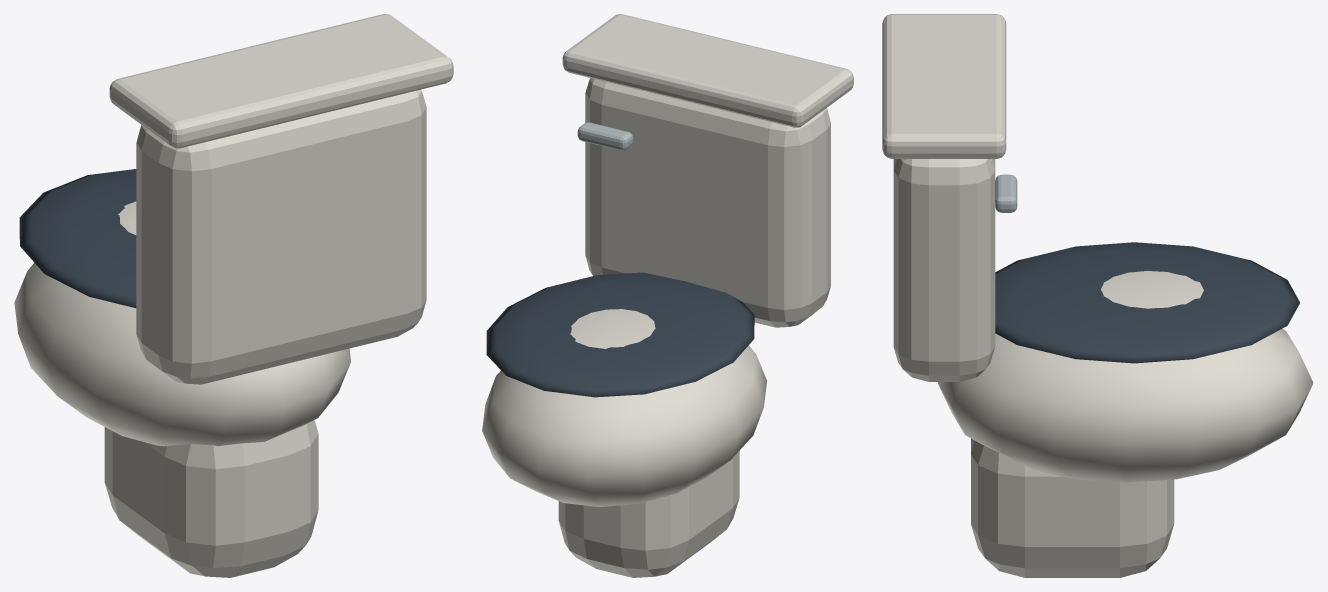
Rendered from chair_toilet.glb.
3 views of the same model, side by side, from view 1: azimuth 30°, elevation 25°; view 2: azimuth 150°, elevation 25°; view 3: azimuth 270°, elevation 25° (orthographic). The views are drawn at different scales.
Parts seen in each view (by area): view 1: toilet; view 2: toilet; view 3: toilet.
Boxes of the visible parts, x1,y1,x2,y2 form: toilet: (14,14,453,577); toilet: (482,14,853,577); toilet: (882,14,1313,577).
Bounding box in the file's own units: 0.68 × 1.22 × 0.975.
